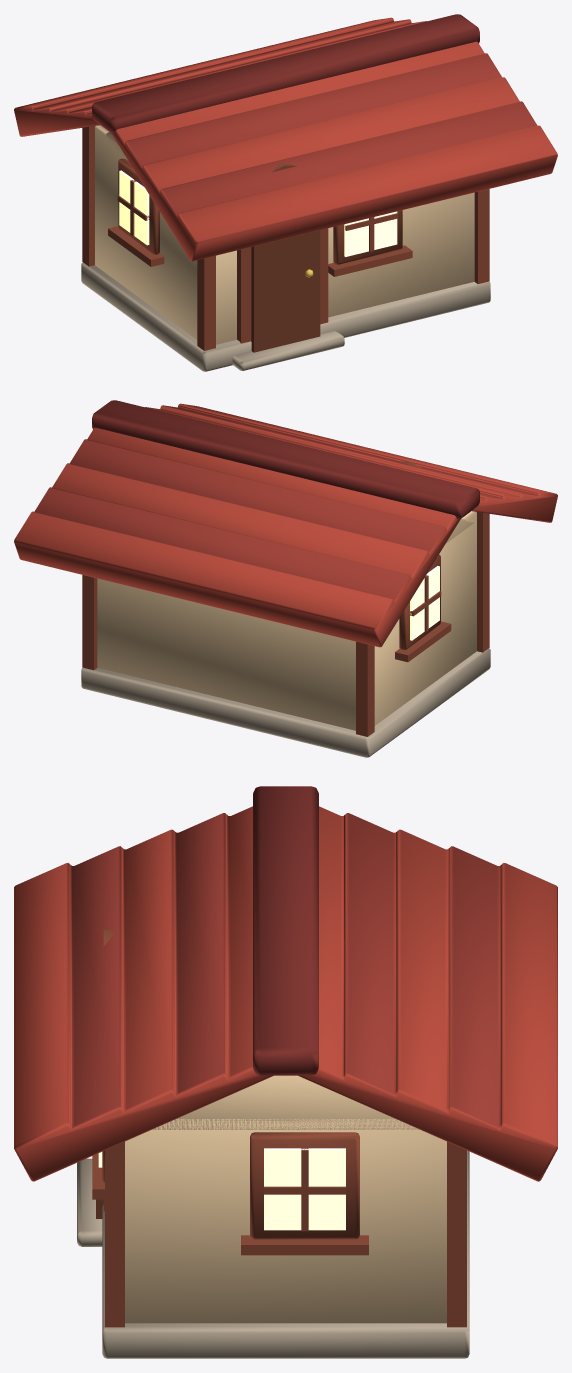
The model's file is v_bakery.glb.
3 renders of one model, top to bottom at view 1: azimuth 30°, elevation 25°; view 2: azimuth 150°, elevation 25°; view 3: azimuth 270°, elevation 25°, orthographic. The views are drawn at different scales.
Parts seen in each view (by area): view 1: Bakery; view 2: Bakery; view 3: Bakery.
Part boxes in pixels (x1,y1,x2,y2): Bakery: [14, 14, 557, 371]; Bakery: [14, 400, 557, 757]; Bakery: [14, 786, 557, 1358].
Size of the model in its own units: 5 by 2.95 by 4.29.
